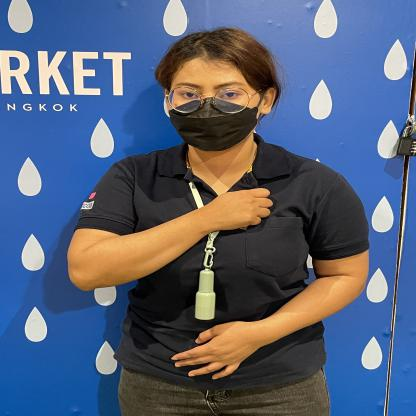Sadness: (55, 176, 310, 300)
